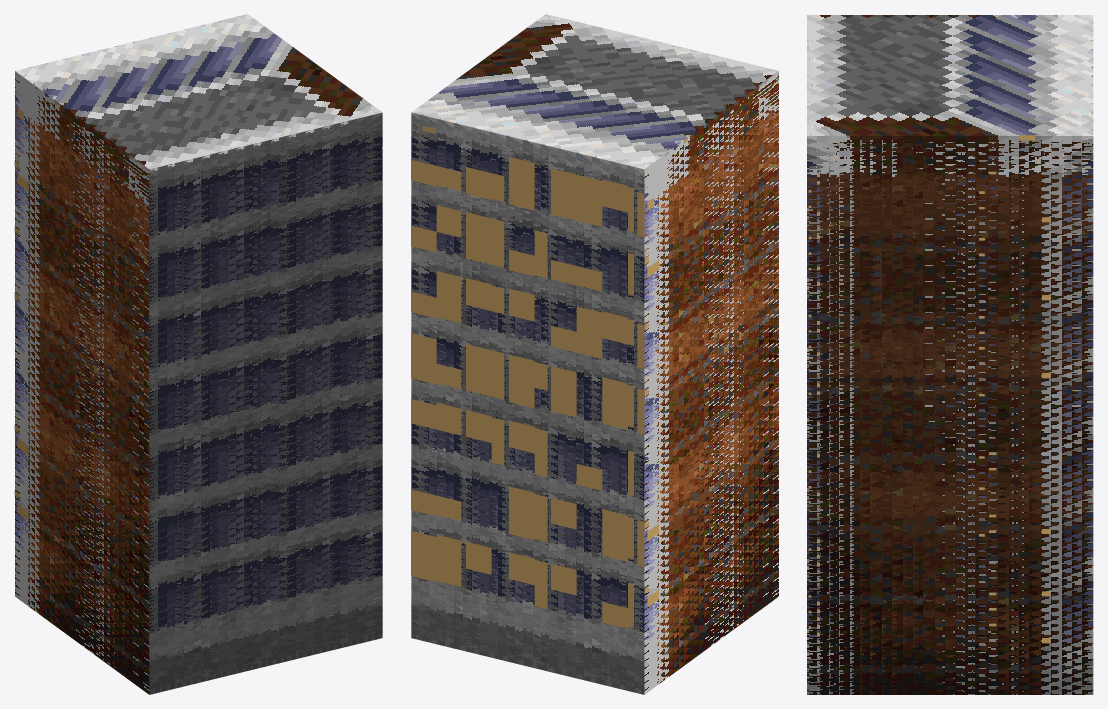
File: dum_52_byty.glb
The picture shows the model from 3 angles, left to right: view 1: azimuth 30°, elevation 25°; view 2: azimuth 150°, elevation 25°; view 3: azimuth 270°, elevation 25°; orthographic projection. The views are drawn at different scales.
Parts seen in each view (by area): view 1: object 1, noc; view 2: object 1, noc; view 3: object 1, noc.
Boxes of the visible parts, left/top/right/bottom form: object 1: left=15, top=14, right=382, bottom=694; noc: left=14, top=100, right=97, bottom=520; object 1: left=411, top=14, right=778, bottom=694; noc: left=411, top=126, right=728, bottom=628; object 1: left=807, top=15, right=1093, bottom=694; noc: left=808, top=135, right=1050, bottom=643.
Size of the model in its own units: 12.53 by 26.94 by 12.51.
Materials: 1 (1 with a texture image).
